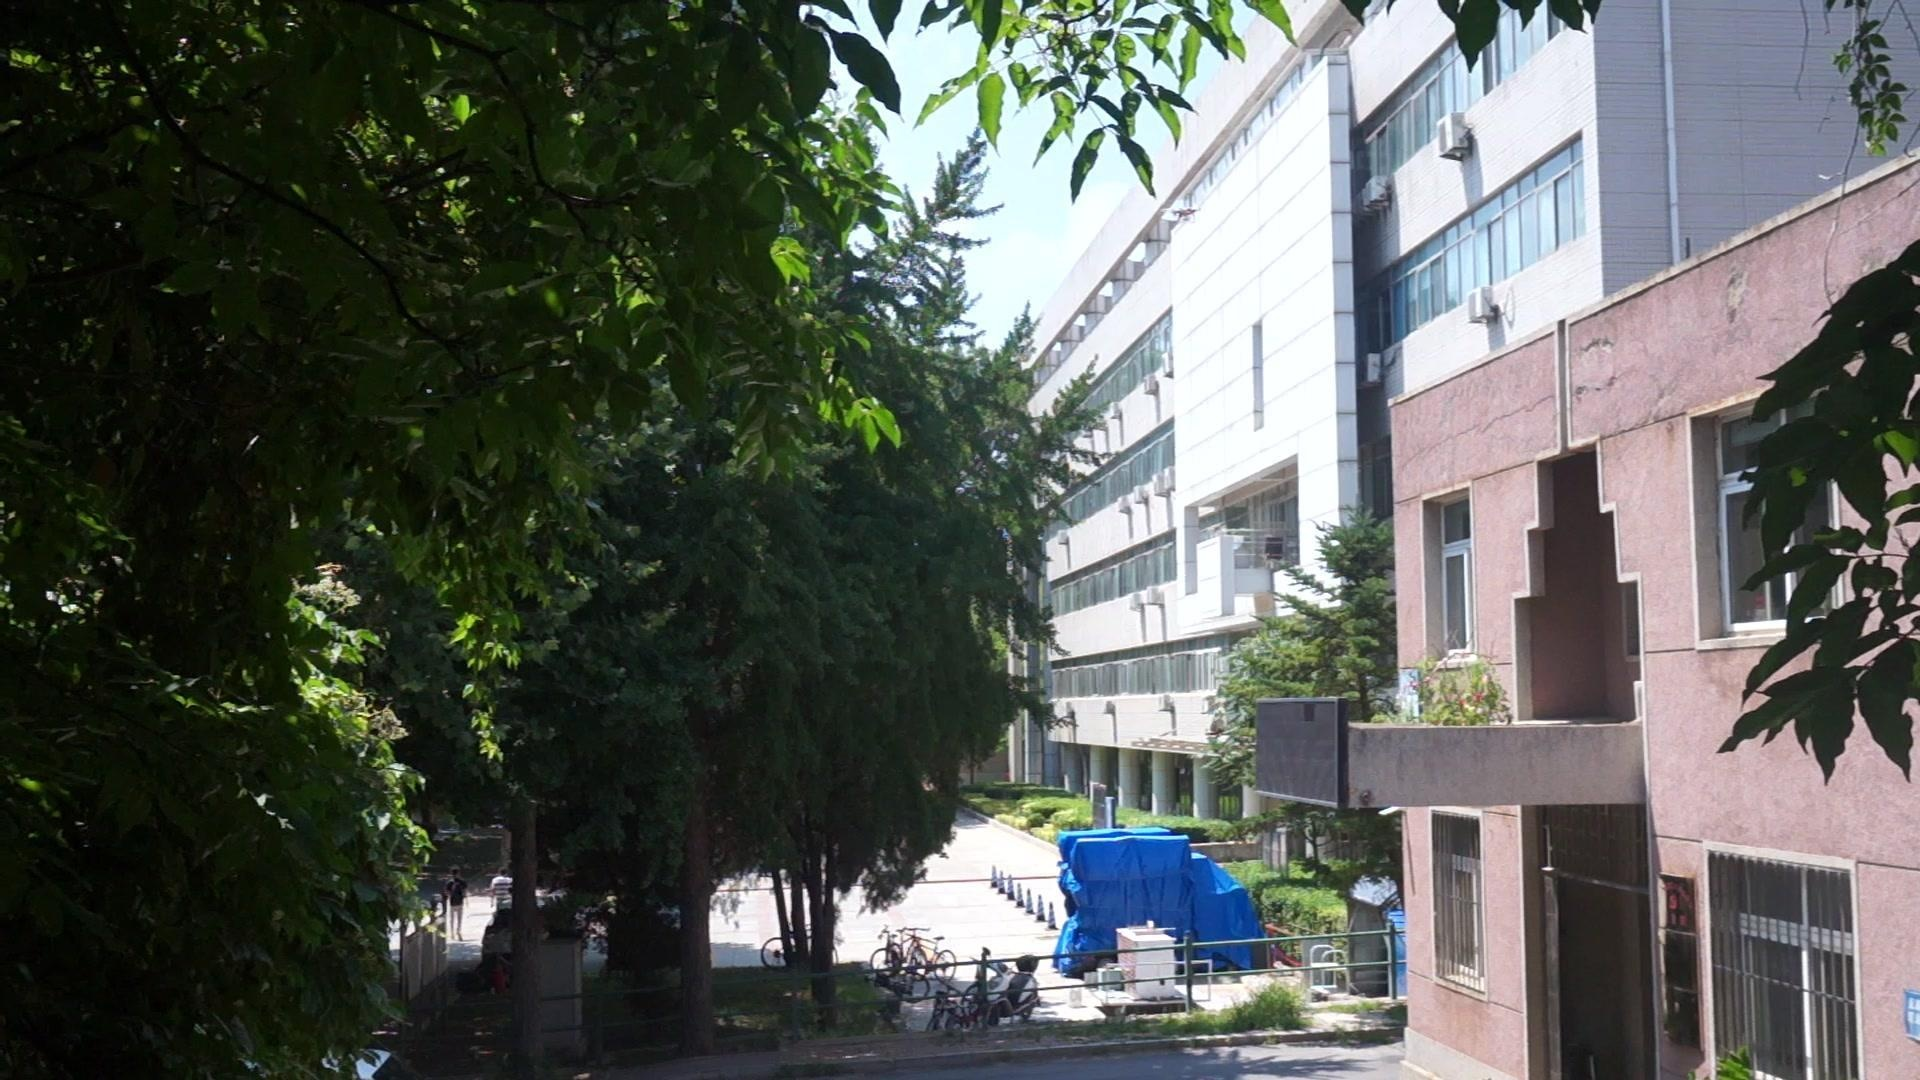UAV: (1160, 207, 1203, 225)
